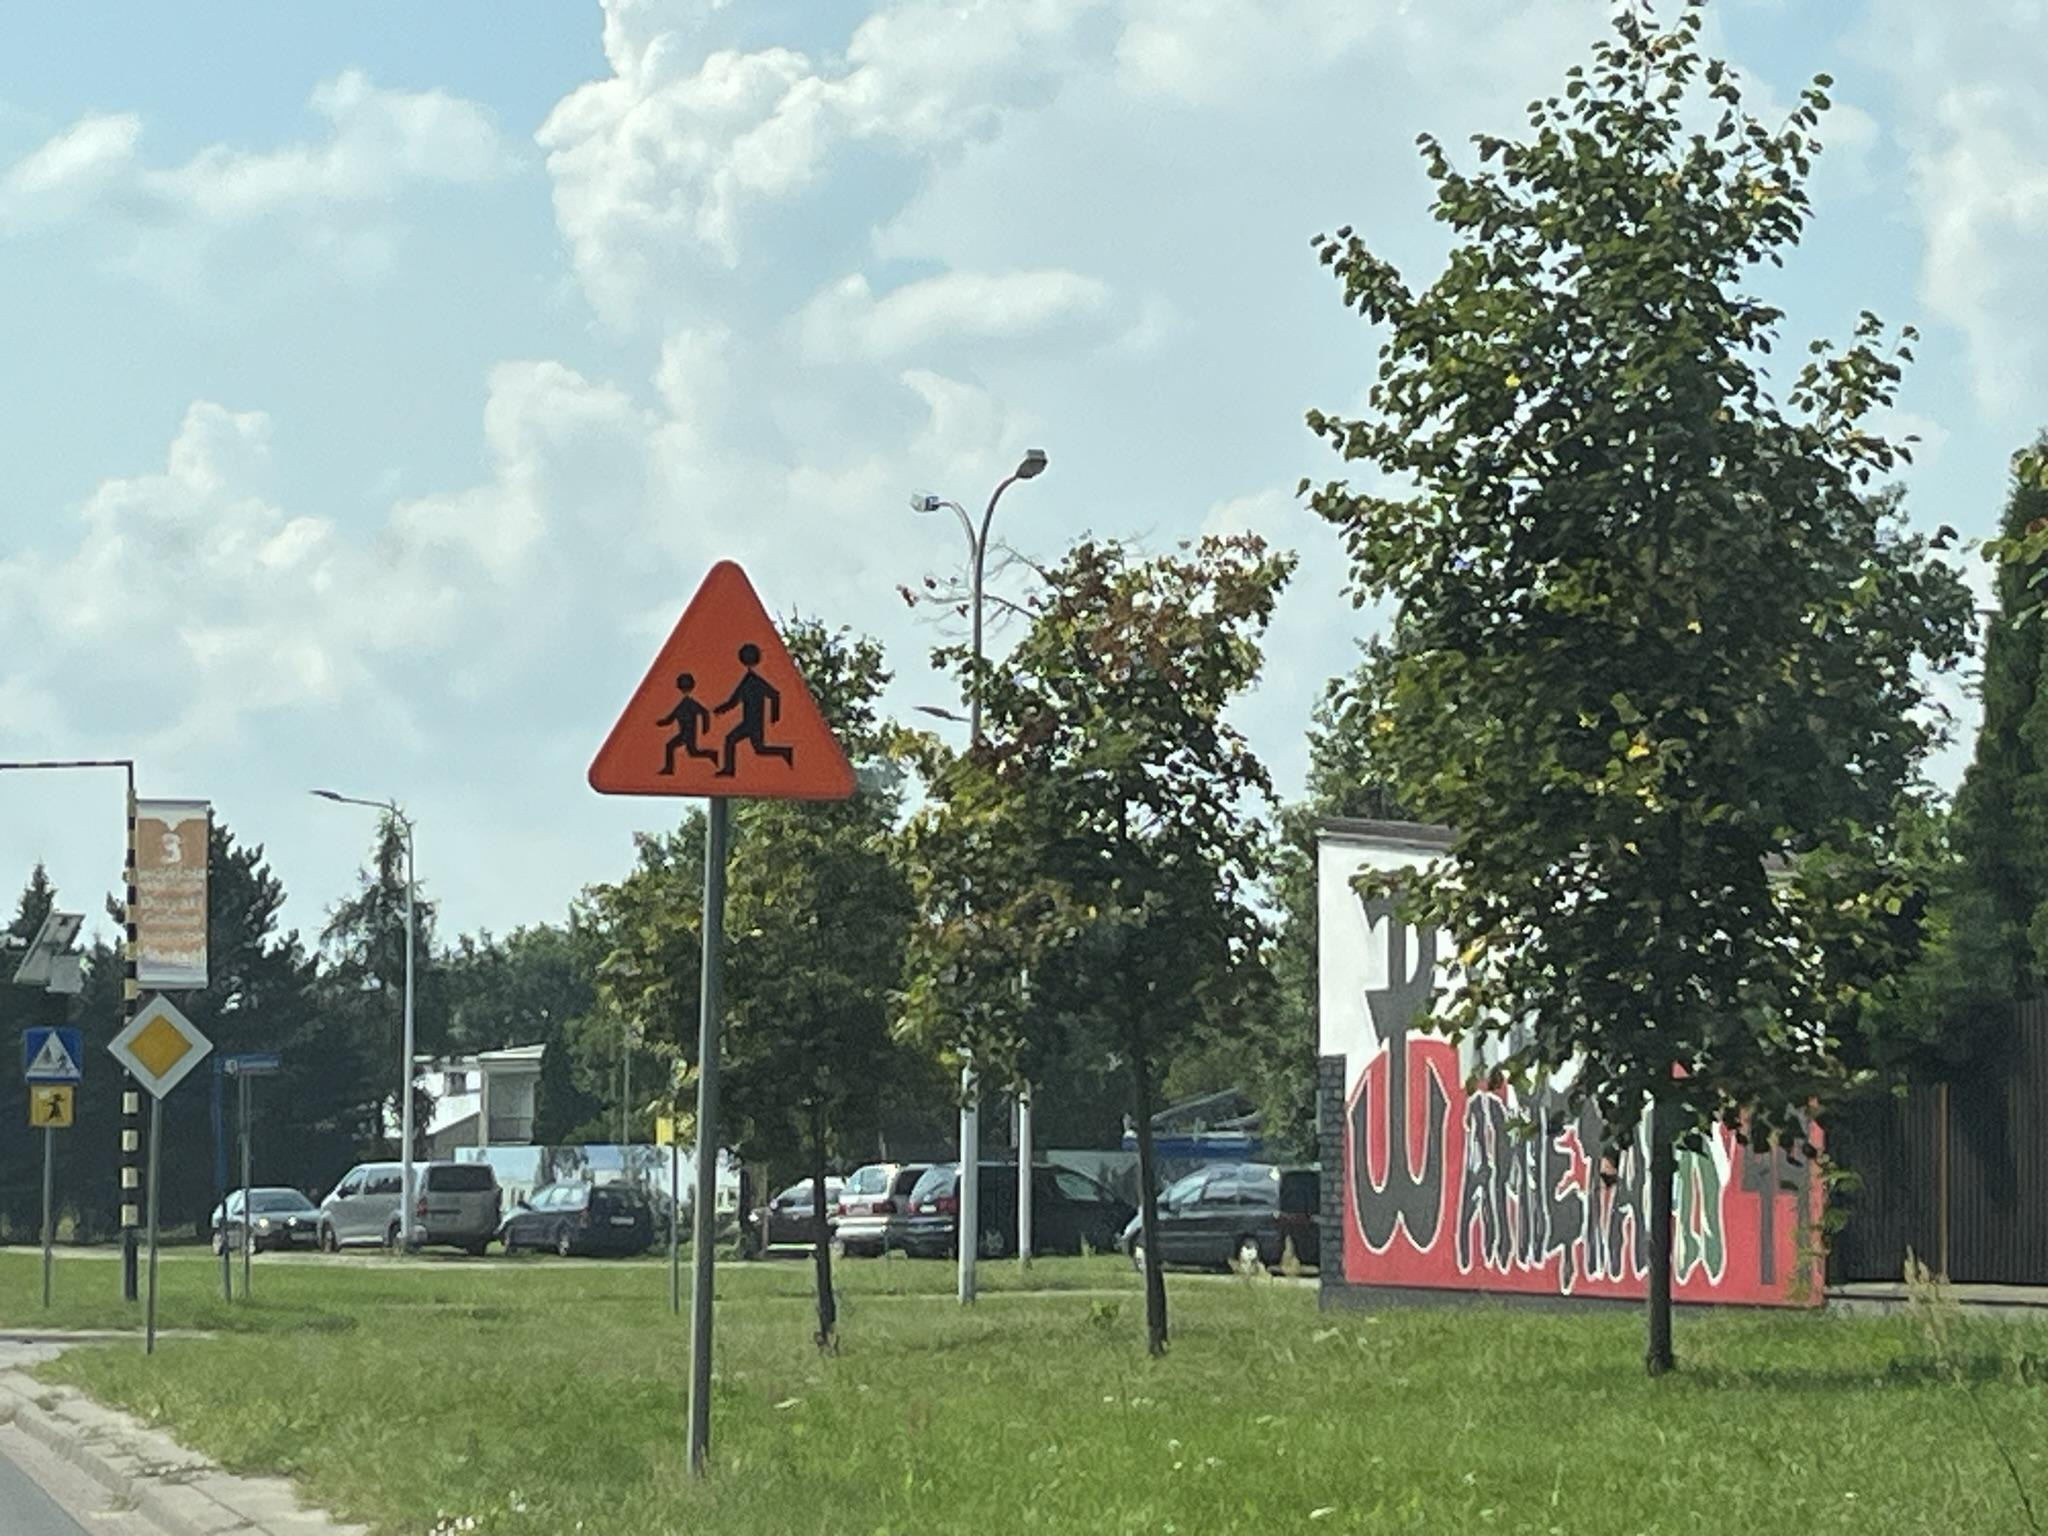information: (106, 994, 214, 1100), (26, 1028, 82, 1079)
other: (31, 1086, 73, 1126)
warning: (585, 553, 858, 803)
